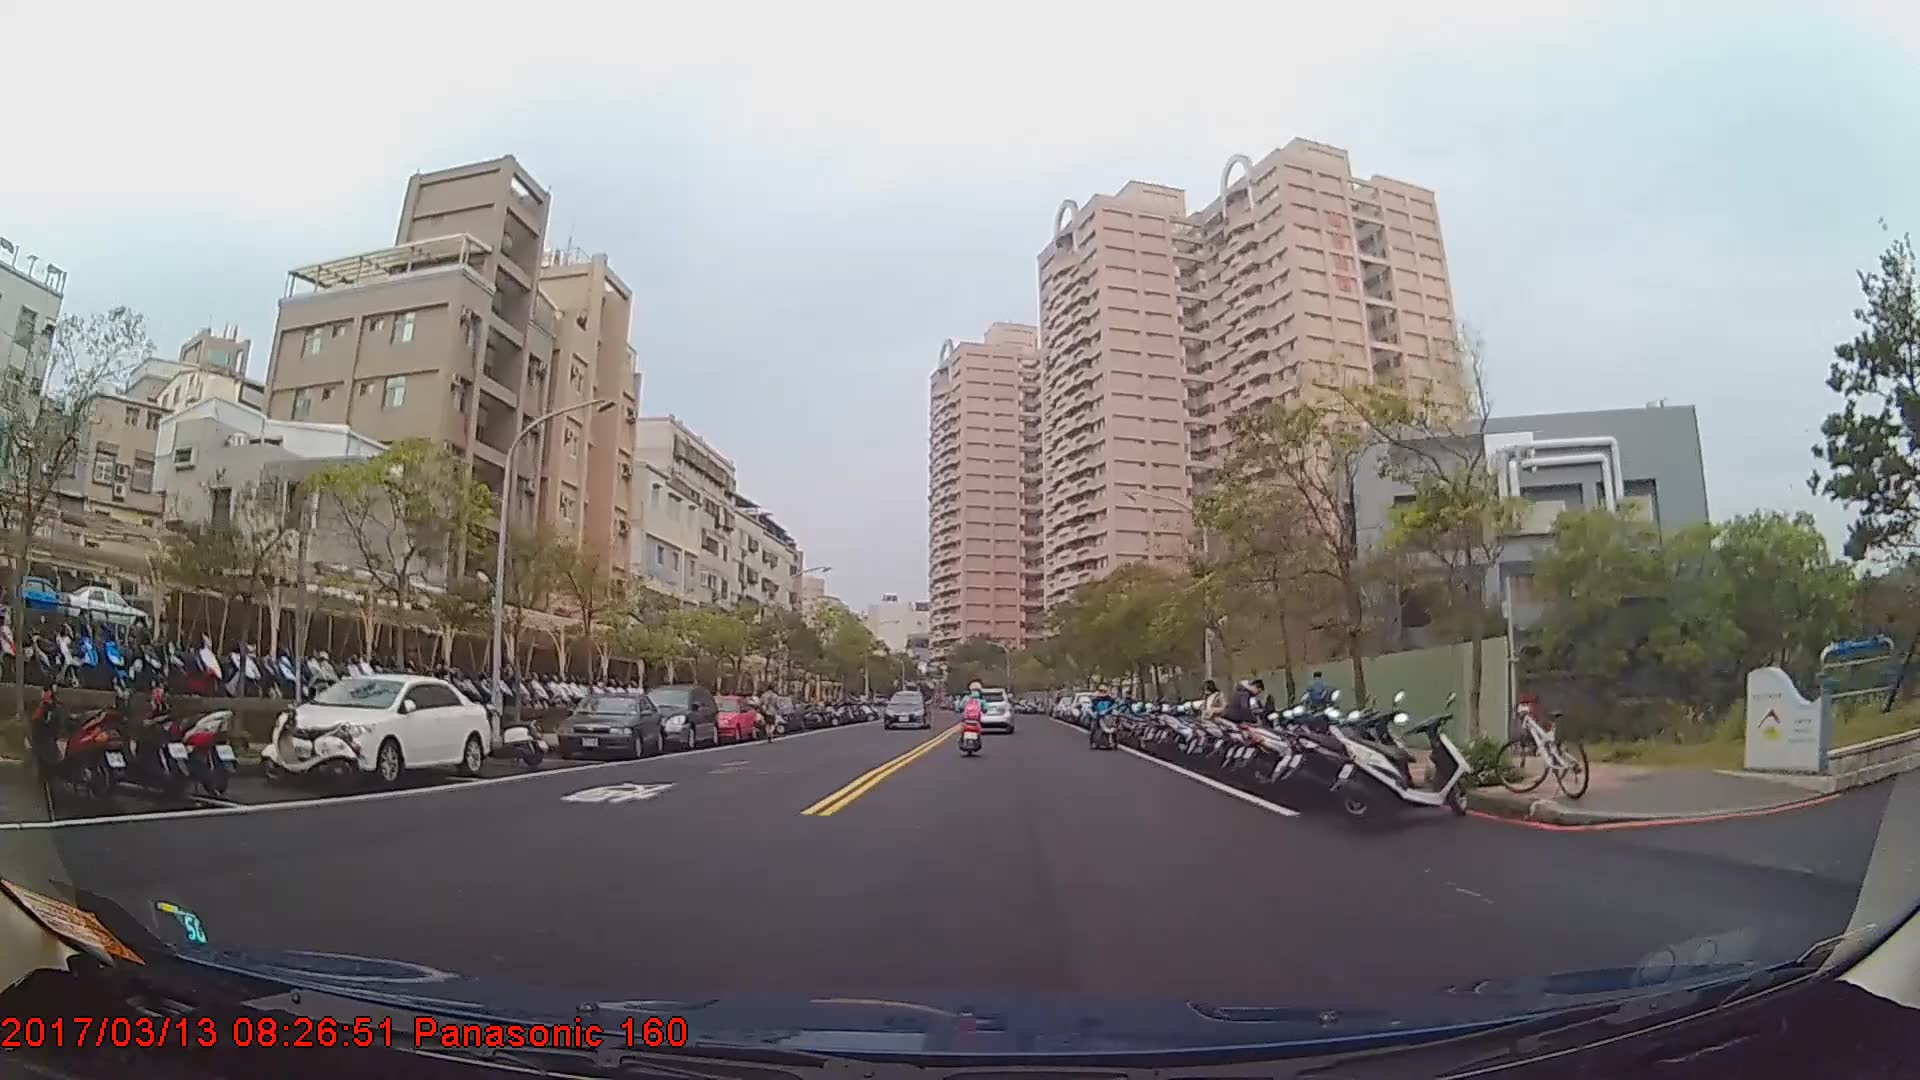pedestrian: (1223, 676, 1267, 771), (1198, 679, 1226, 766), (1302, 668, 1331, 739), (757, 681, 787, 744)
rider: (958, 682, 989, 754), (1088, 686, 1120, 752)
vehicle: (268, 671, 490, 784), (554, 690, 664, 759), (639, 682, 717, 747), (686, 693, 757, 743), (960, 687, 1013, 731), (884, 688, 929, 730)
